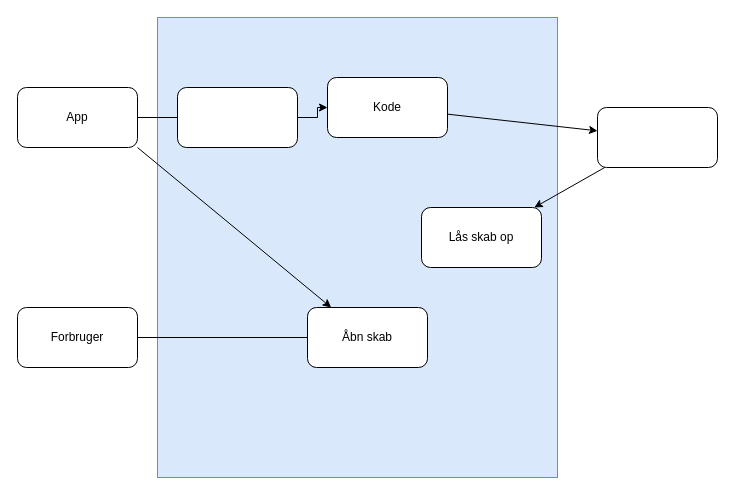
Image size: 735x495. Some labels were removed from this diagram. The centre of each missing label's shape, as x and y in pixels:
Face ID: (x=237, y=117)
Lås: (x=657, y=137)
